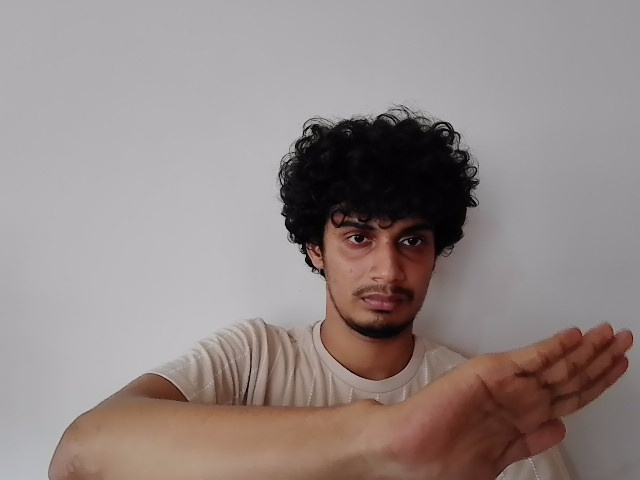hello: (403, 323, 640, 480)
